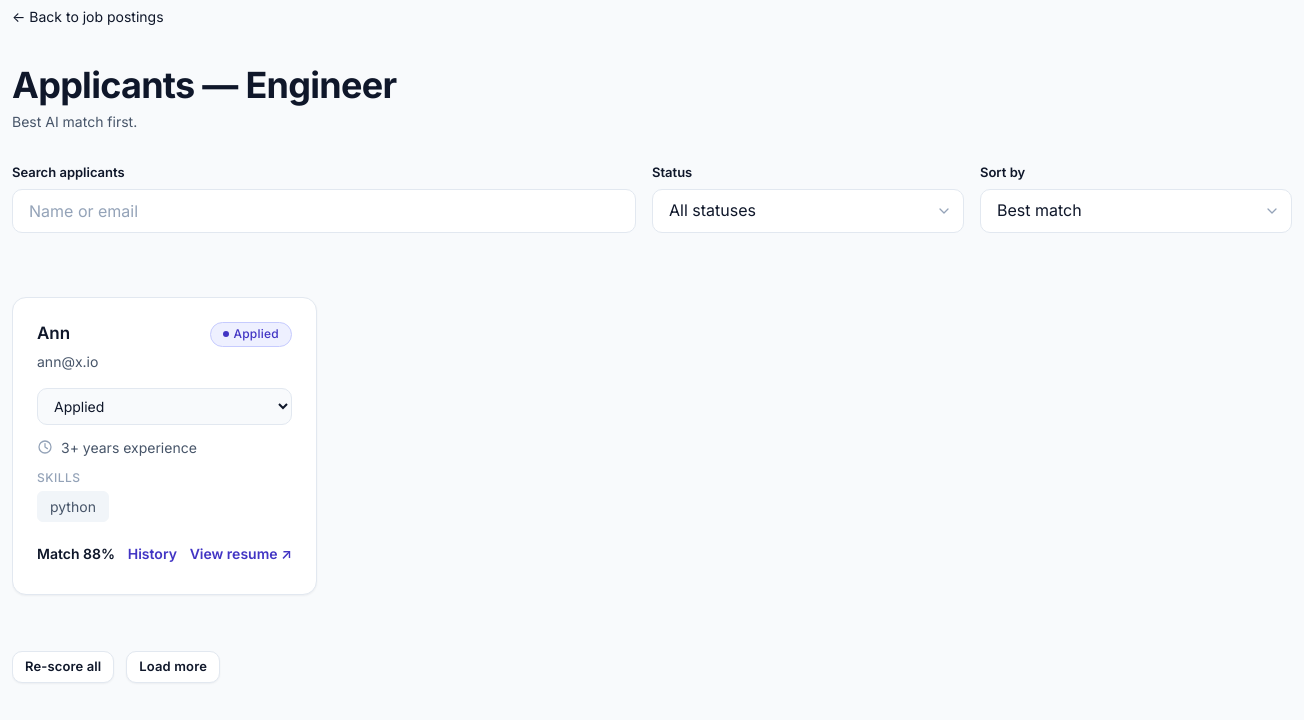
Test: JobApplicants › loads more without duplicating rows
Click the button "Load more": [173, 667] box [126, 651, 220, 683]
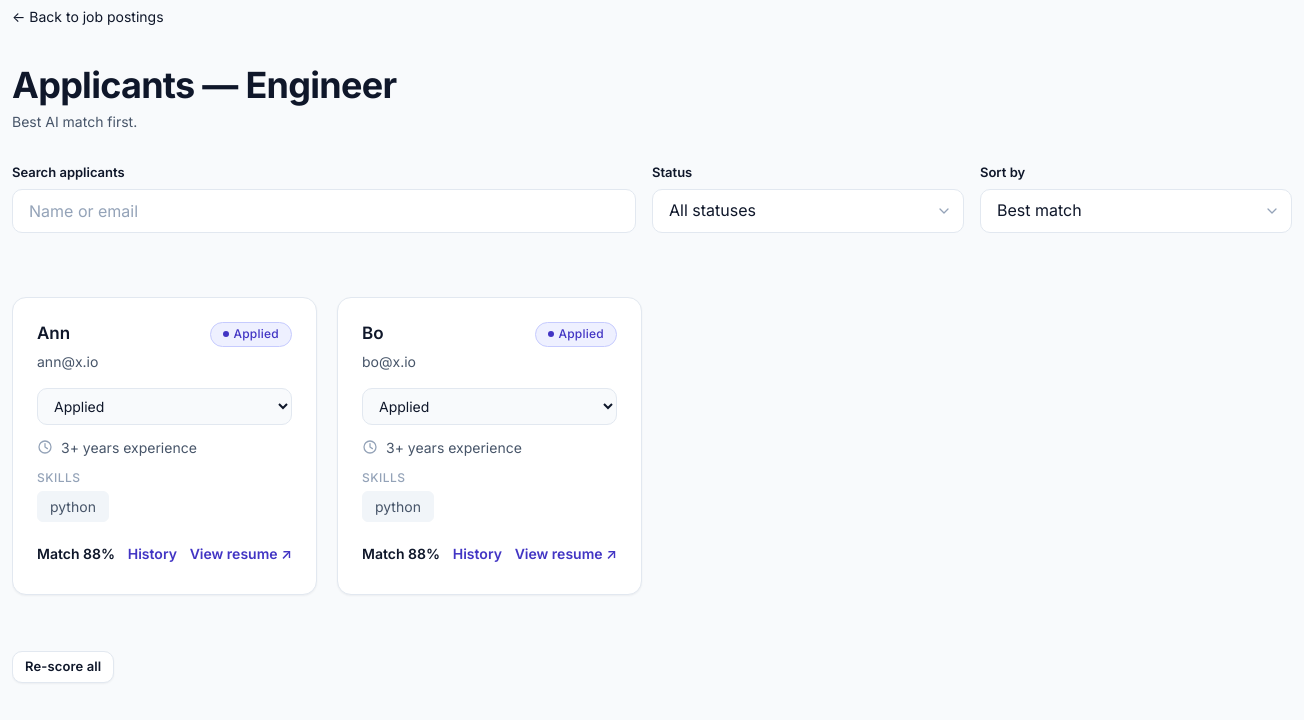
Check: the text "Ann" is shown once, box [37, 322, 70, 346]
Check: the text "Bo" is shown, box [362, 322, 384, 346]
